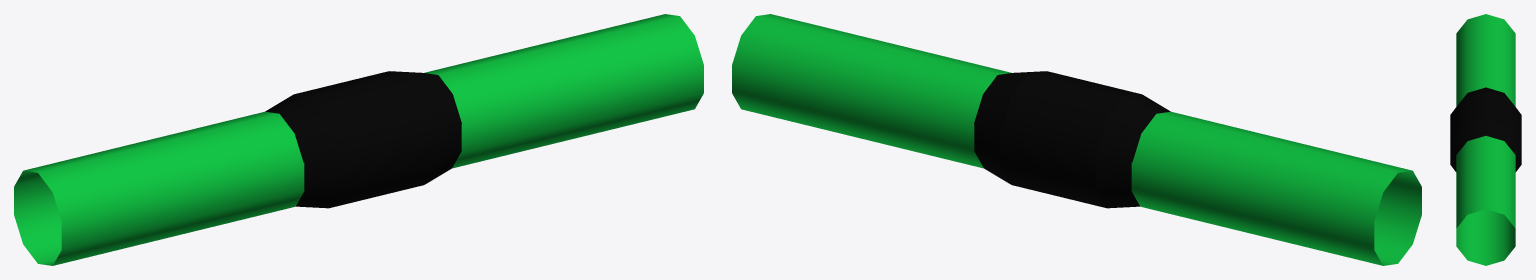
Rendered from Pipes_Straight.fbx.
3 views of the same model, side by side, from view 1: azimuth 30°, elevation 25°; view 2: azimuth 150°, elevation 25°; view 3: azimuth 270°, elevation 25° (orthographic). The views are drawn at different scales.
Parts seen in each view (by area): view 1: pCylinder6; view 2: pCylinder6; view 3: pCylinder6.
Part boxes in pixels (left/top/right/bottom): pCylinder6: left=14, top=14, right=703, bottom=265; pCylinder6: left=732, top=14, right=1421, bottom=265; pCylinder6: left=1450, top=14, right=1521, bottom=265.
Size of the model in its own units: 173 by 28.04 by 26.66.
Materials: 1 (1 with a texture image).
